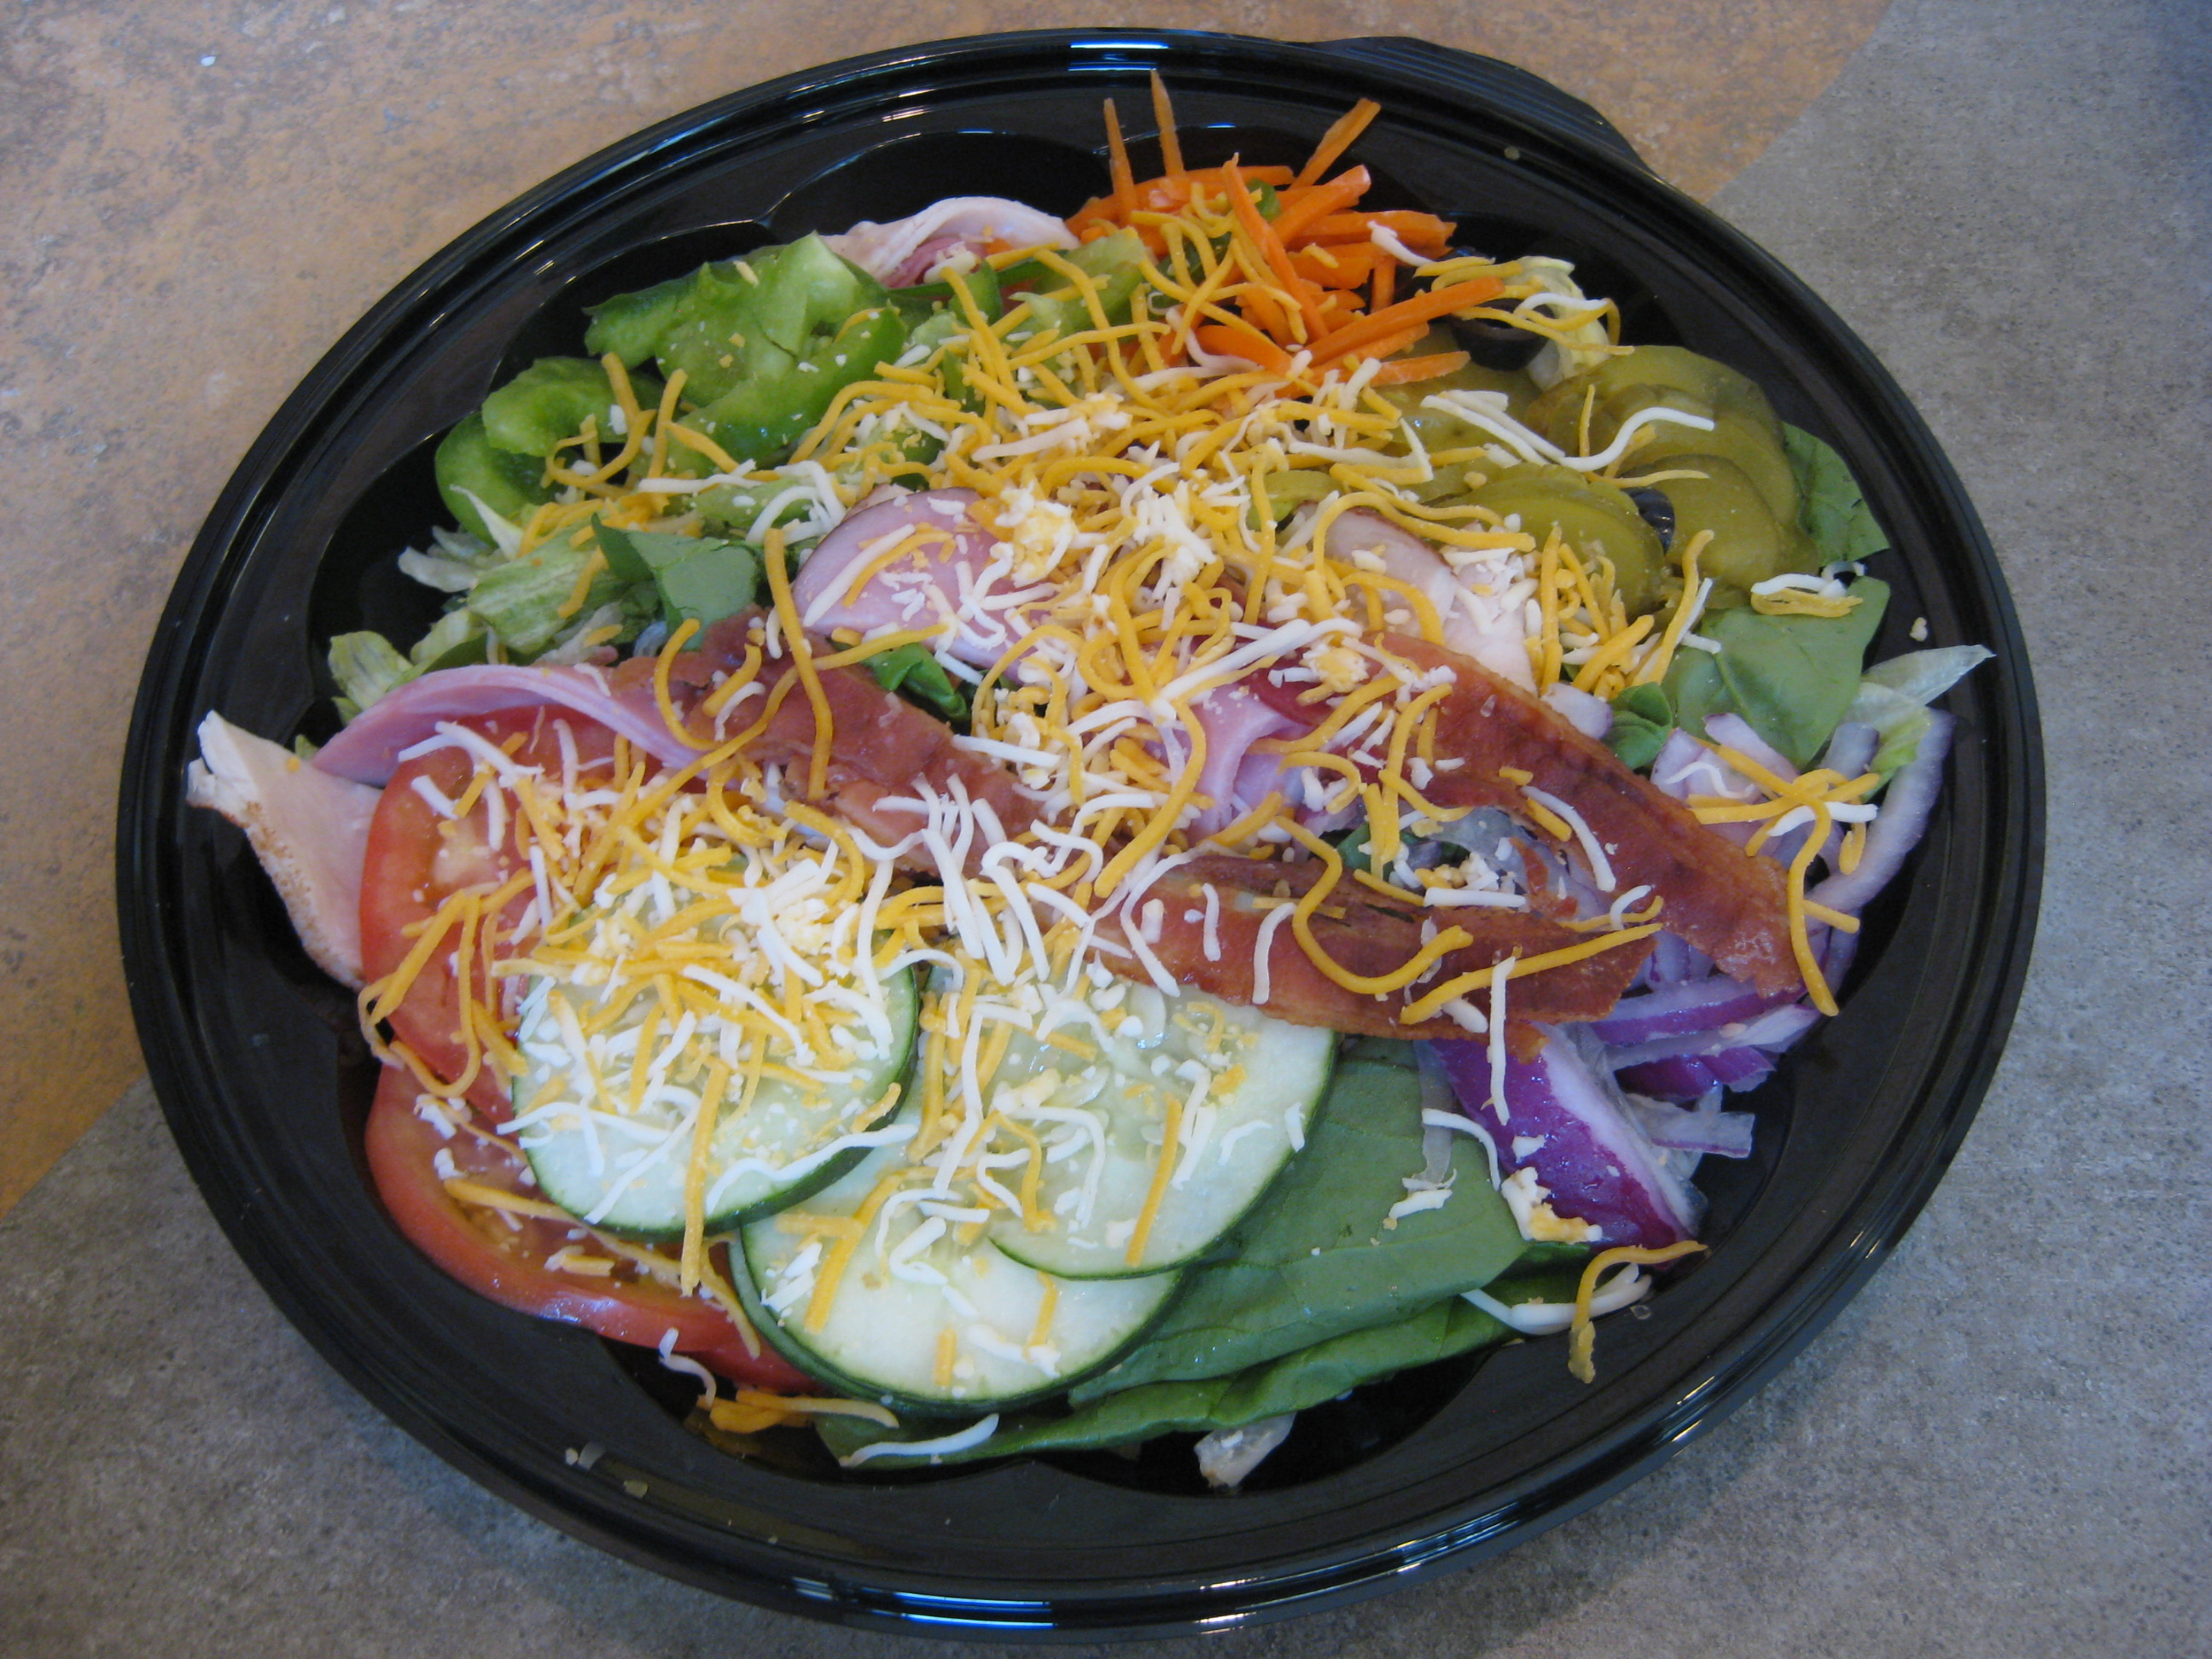salad: (276, 125, 1899, 1429)
